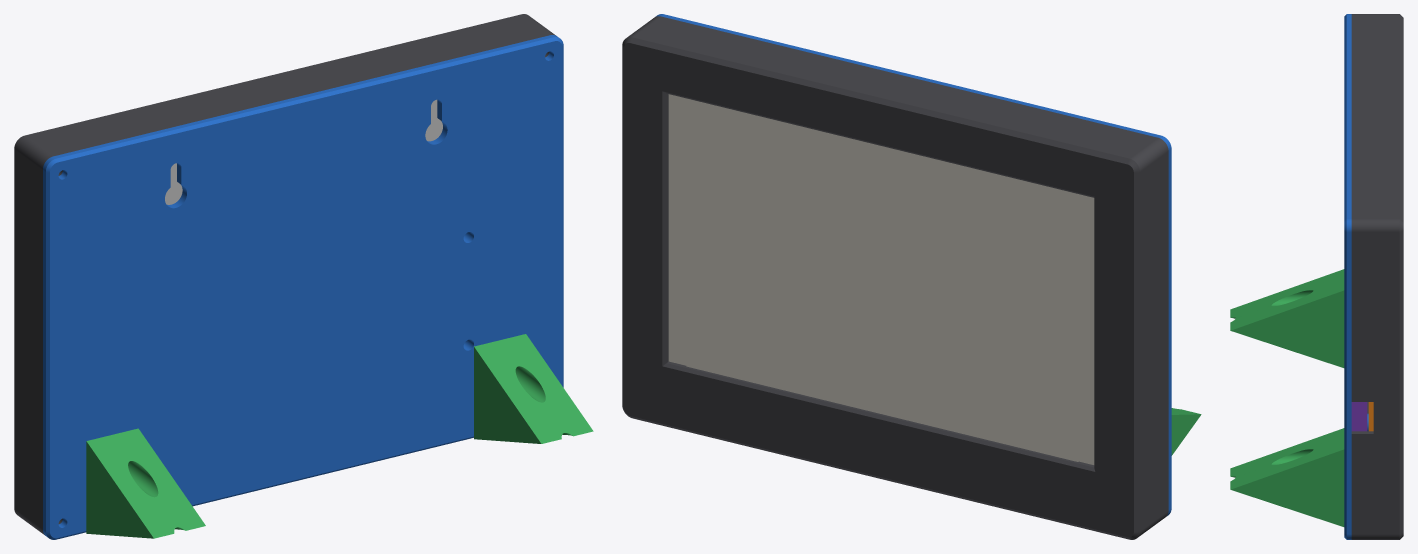
Rendered from assembly.obj.
3 views of the same model, side by side, from view 1: azimuth 30°, elevation 25°; view 2: azimuth 150°, elevation 25°; view 3: azimuth 270°, elevation 25° (orthographic). The views are drawn at different scales.
Parts seen in each view (by area): view 1: back_cover, frame, foot_1, foot_2, backer; view 2: ref_panel, frame, back_cover, foot_1; view 3: frame, foot_1, foot_2, back_cover, ref_esp32.
Part boxes in pixels (bbox=[...]): back_cover: bbox=[43, 35, 563, 539]; frame: bbox=[14, 14, 555, 535]; foot_1: bbox=[86, 428, 205, 538]; foot_2: bbox=[474, 334, 593, 443]; backer: bbox=[165, 99, 442, 204]; ref_panel: bbox=[668, 94, 1094, 464]; frame: bbox=[622, 16, 1168, 539]; back_cover: bbox=[655, 14, 1171, 515]; foot_1: bbox=[1171, 408, 1201, 455]; frame: bbox=[1351, 14, 1403, 539]; foot_1: bbox=[1230, 269, 1344, 367]; foot_2: bbox=[1230, 428, 1344, 526]; back_cover: bbox=[1344, 14, 1368, 539]; ref_esp32: bbox=[1351, 402, 1367, 431].
Bounding box in the file's own units: 199 × 140 × 68.5.
